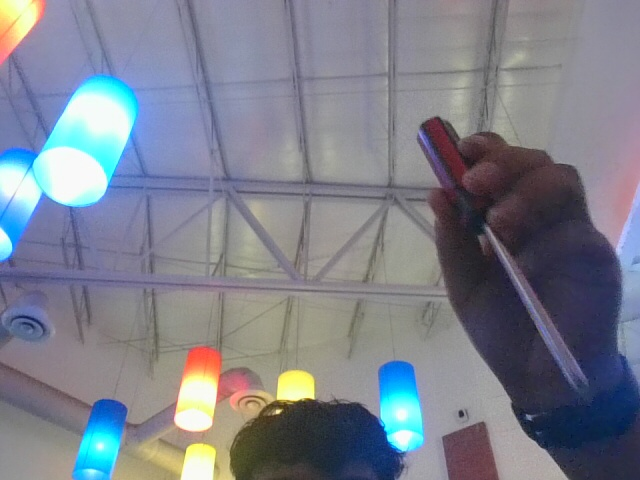destornillador: (406, 114, 597, 402)
